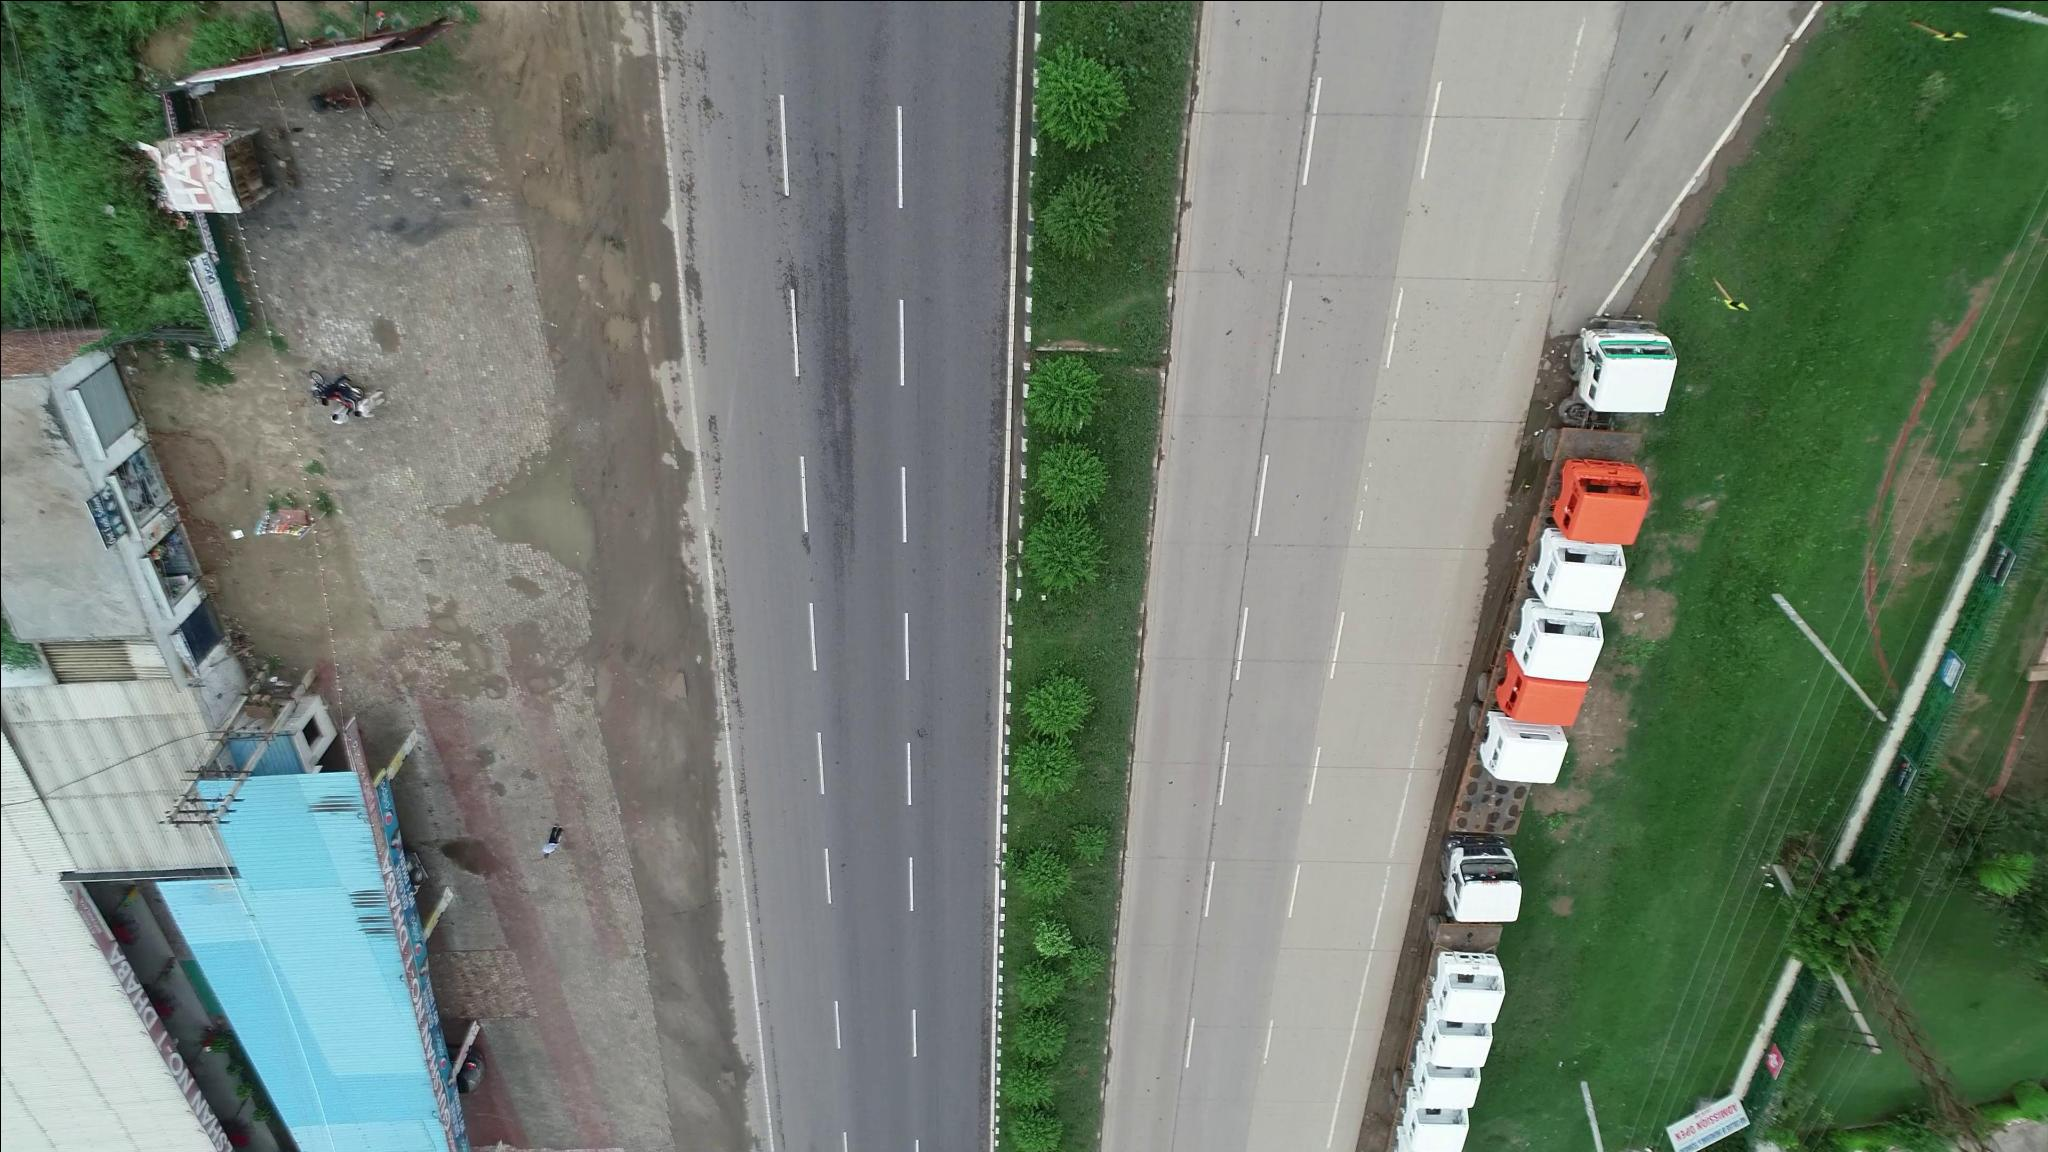Ravelling: (812, 167, 871, 556)
